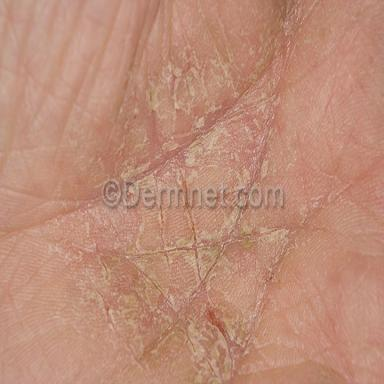eczema: (58, 1, 309, 380)
